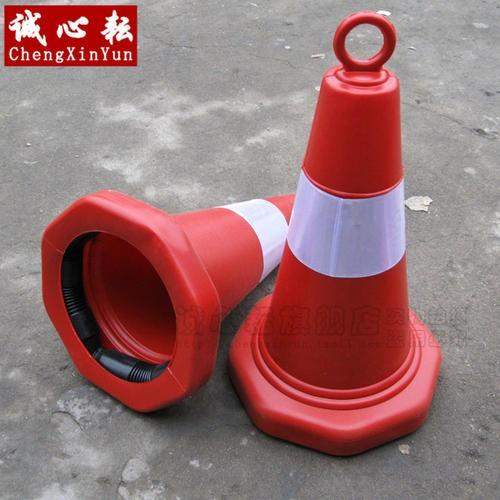cone_barrel: (245, 5, 437, 439), (45, 190, 288, 410)
